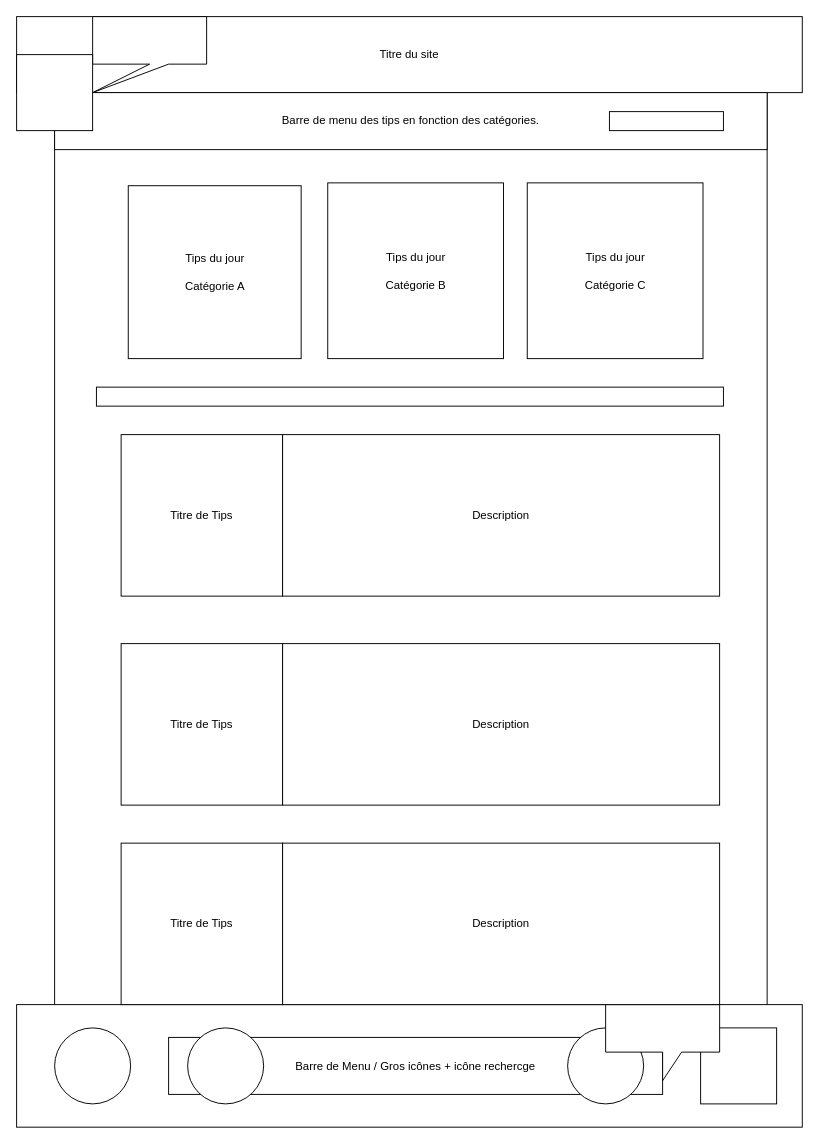
This 819x1144 diagram has some shape labels left out. The centre of each missing label's shape, as x and y in pixels:
Barre de recherche de tips: [665,121]
Barre toujours apparente: [662,1042]
Logo: [92,1065]
Logo de la page TIPS: [54,92]
Logo toujours apparent: [149,54]
Mon Profil: [738,1065]
